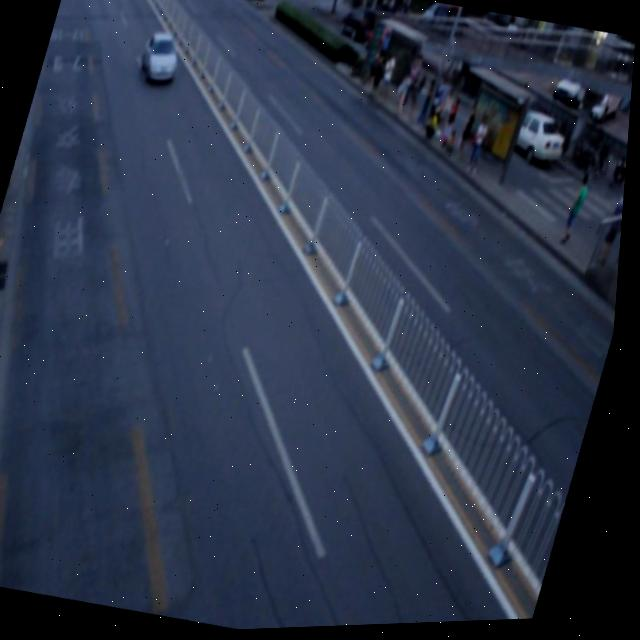car: (136, 30, 186, 88)
